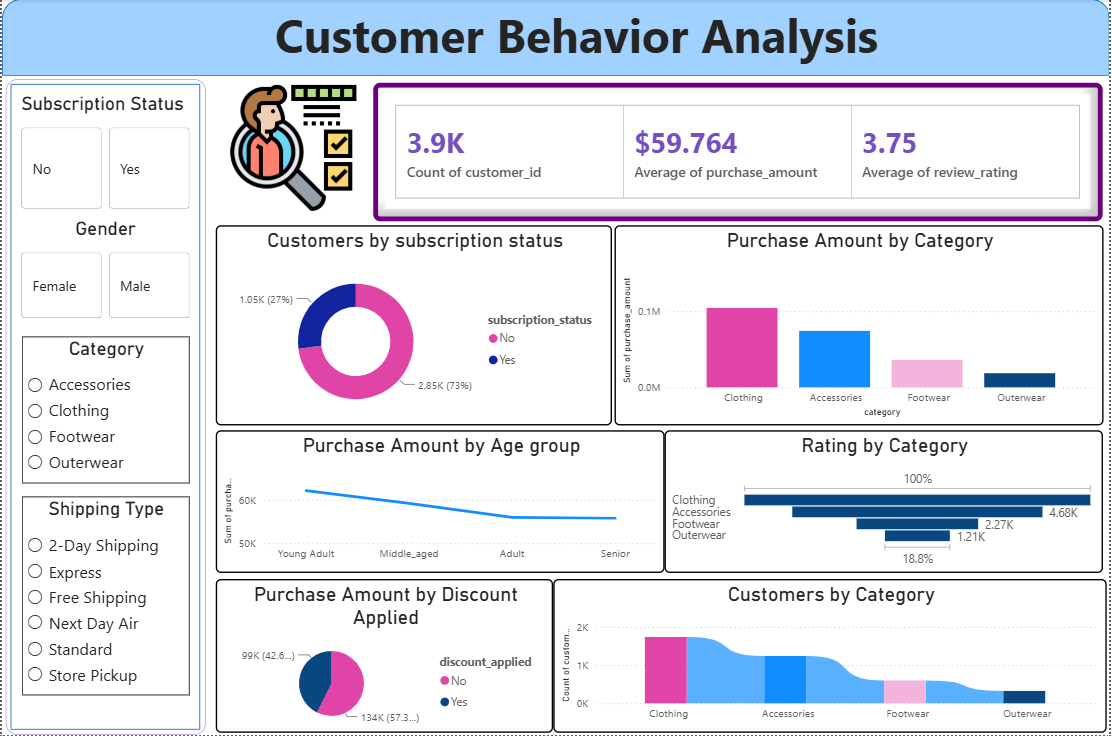

This screenshot's page, from the dashboard's own definition file:
{"tool":"powerbi","page":{"name":"Page 1","canvas":[1280,850],"ordinal":0},"visuals":[{"type":"cardVisual","fields":{"Data":["Count(Customer Shopping Behavior_cleaned data.customer_id)","Avg(Customer Shopping Behavior_cleaned data.purchase_amount)","Avg(Customer Shopping Behavior_cleaned data.review_rating)"]},"box":[428.1,96.9,842.7,160.2],"z":0},{"type":"shape","box":[0,0,1280.3,89.2],"z":1},{"type":"textbox","box":[135.8,0,1055.7,88.8],"z":2},{"type":"donutChart","title":" Customers by subscription status","fields":{"Category":["Customer Shopping Behavior_cleaned data.subscription_status"],"Y":["CountNonNull(Customer Shopping Behavior_cleaned data.customer_id)"]},"box":[246.9,261.3,457.6,231],"z":3},{"type":"clusteredColumnChart","title":"Purchase Amount by Category","fields":{"Y":["Sum(Customer Shopping Behavior_cleaned data.purchase_amount)"],"Category":["Customer Shopping Behavior_cleaned data.category"]},"box":[707.4,261.3,564.5,231],"z":4},{"type":"ribbonChart","title":"Customers by Category","fields":{"Category":["Customer Shopping Behavior_cleaned data.category"],"Y":["CountNonNull(Customer Shopping Behavior_cleaned data.customer_id)"]},"box":[636.6,669.8,639.5,177.6],"z":5},{"type":"shape","box":[4.3,92.4,231,757.9],"z":6},{"type":"advancedSlicerVisual","title":"Subscription Status","fields":{"Values":["Customer Shopping Behavior_cleaned data.subscription_status"]},"box":[17.5,108.9,204.4,139.9],"z":8},{"type":"advancedSlicerVisual","title":"Gender","fields":{"Values":["Customer Shopping Behavior_cleaned data.gender"]},"box":[17.5,252.8,204.4,121],"z":9},{"type":"listSlicer","title":"Category","fields":{"Values":["Customer Shopping Behavior_cleaned data.category"]},"box":[22.9,390.4,193.9,169.6],"z":10},{"type":"listSlicer","title":"Shipping Type","fields":{"Values":["Customer Shopping Behavior_cleaned data.shipping_type"]},"box":[23.1,574.6,193.4,229.5],"z":11},{"type":"lineChart","title":"Purchase Amount by Age group","fields":{"Category":["Customer Shopping Behavior_cleaned data.age_group"],"Y":["Sum(Customer Shopping Behavior_cleaned data.purchase_amount)"]},"box":[246.9,498,518.3,164.6],"z":12},{"type":"funnel","title":"Rating by Category","fields":{"Category":["Customer Shopping Behavior_cleaned data.category"],"Y":["Sum(Customer Shopping Behavior_cleaned data.review_rating)"]},"box":[765,498,506,165],"z":13},{"type":"pieChart","title":"Purchase Amount by Discount Applied","fields":{"Category":["Customer Shopping Behavior_cleaned data.discount_applied"],"Y":["Sum(Customer Shopping Behavior_cleaned data.purchase_amount)"]},"box":[246.9,669.8,389.8,177.6],"z":14},{"type":"image","box":[261.3,96.7,150.1,150.1],"z":15}]}

Visuals, with their boxes in screenshot pixels (x1, y1, x2, y2), scaled from the page's 1280x850 canvas onto the 1112x736 screenshot:
cardVisual - Count(Customer Shopping Behavior_cleaned data.customer_id) x Avg(Customer Shopping Behavior_cleaned data.purchase_amount): <region>372, 84, 1104, 223</region>
shape: <region>0, 0, 1111, 77</region>
textbox: <region>118, 0, 1035, 77</region>
" Customers by subscription status" donutChart: <region>214, 226, 612, 426</region>
"Purchase Amount by Category" clusteredColumnChart: <region>615, 226, 1105, 426</region>
"Customers by Category" ribbonChart: <region>553, 580, 1109, 734</region>
shape: <region>4, 80, 204, 735</region>
"Subscription Status" advancedSlicerVisual: <region>15, 94, 193, 215</region>
"Gender" advancedSlicerVisual: <region>15, 219, 193, 324</region>
"Category" listSlicer: <region>20, 338, 188, 485</region>
"Shipping Type" listSlicer: <region>20, 498, 188, 696</region>
"Purchase Amount by Age group" lineChart: <region>214, 431, 665, 574</region>
"Rating by Category" funnel: <region>665, 431, 1104, 574</region>
"Purchase Amount by Discount Applied" pieChart: <region>214, 580, 553, 734</region>
image: <region>227, 84, 357, 214</region>
